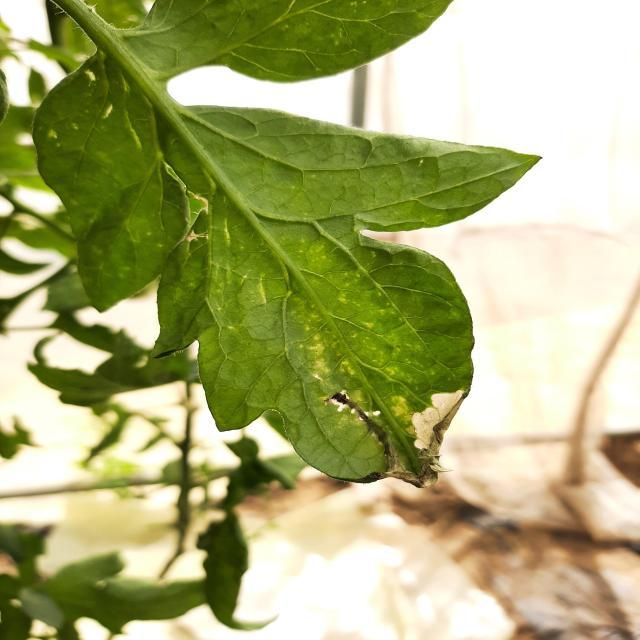Tuta absoluta: (402, 377, 472, 449)
